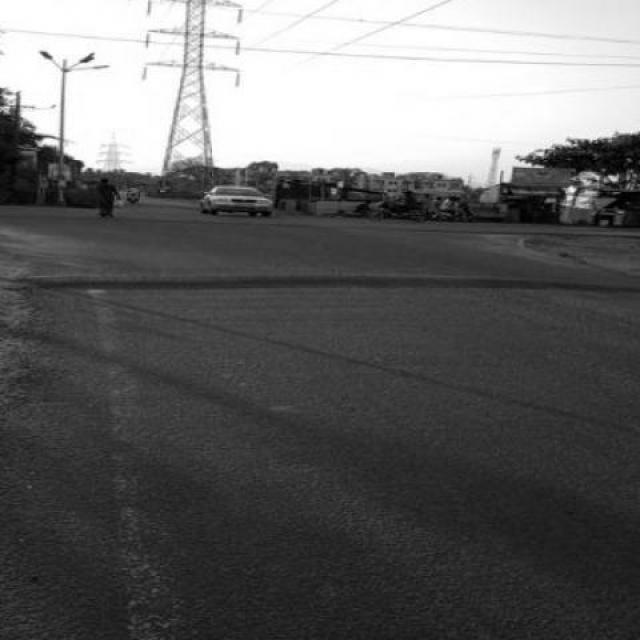Unmarked Bump: (23, 270, 638, 293)
